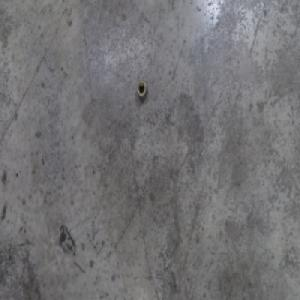Nut: (136, 78, 148, 102)
